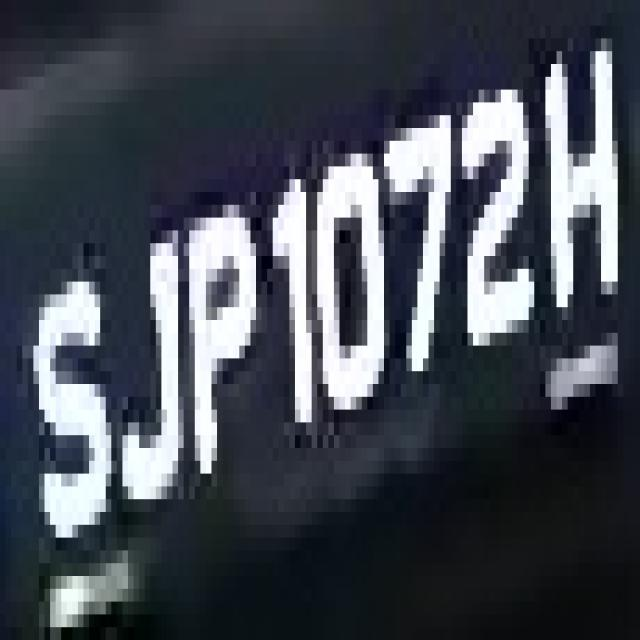0: (306, 140, 395, 473)
1: (272, 128, 322, 448)
2: (434, 38, 534, 410)
7: (384, 90, 462, 448)
H: (540, 0, 634, 346)
J: (95, 192, 189, 512)
P: (178, 192, 273, 474)
S: (33, 218, 117, 563)
